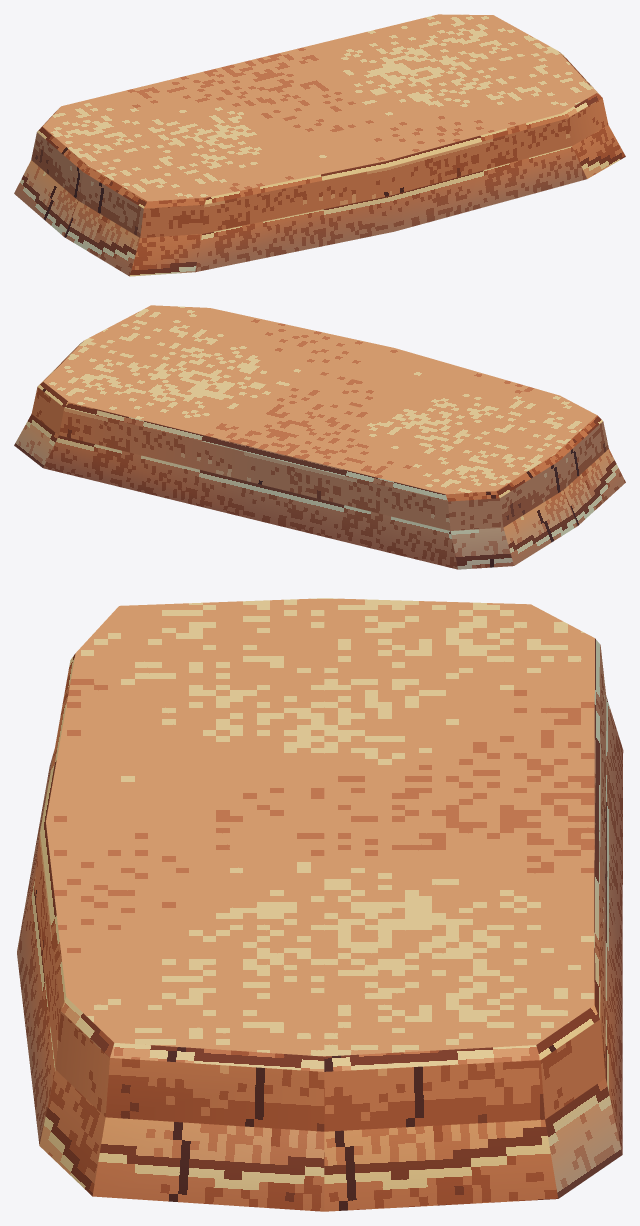
File: wland.ledge__low.glb
3 views of the same model, one above another, from view 1: azimuth 30°, elevation 25°; view 2: azimuth 150°, elevation 25°; view 3: azimuth 270°, elevation 25° (orthographic). The views are drawn at different scales.
Visible parts, largest first — view 1: kit_ledge; view 2: kit_ledge; view 3: kit_ledge.
Boxes of the visible parts, <box> form: kit_ledge: <box>14,14,625,276</box>; kit_ledge: <box>14,305,625,569</box>; kit_ledge: <box>17,598,623,1211</box>.
Size of the model in its own units: 8.3 by 1 by 4.2.
4 materials, 4 textured.
